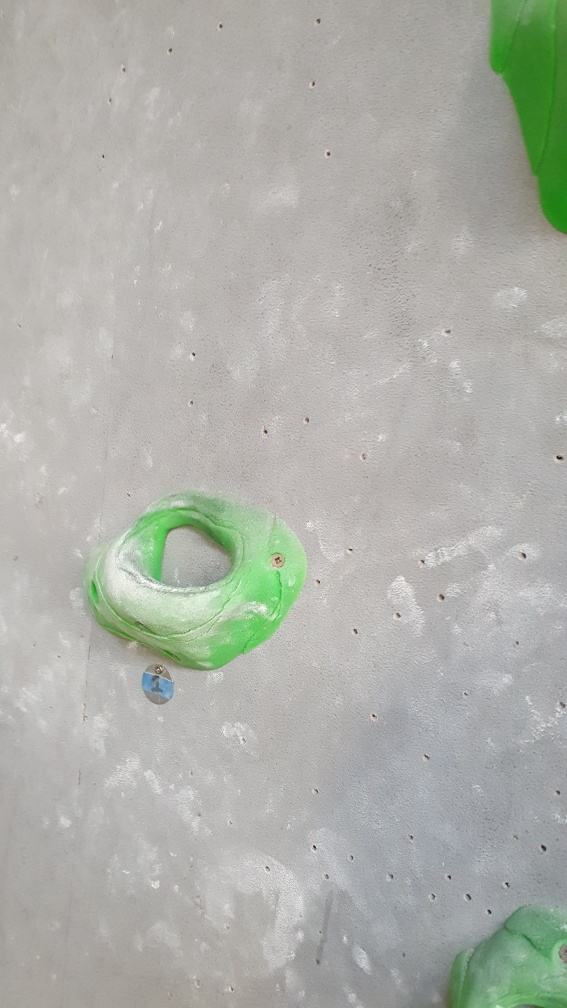Hand Start: (137, 655, 181, 714)
Pocket: (83, 485, 310, 671)
